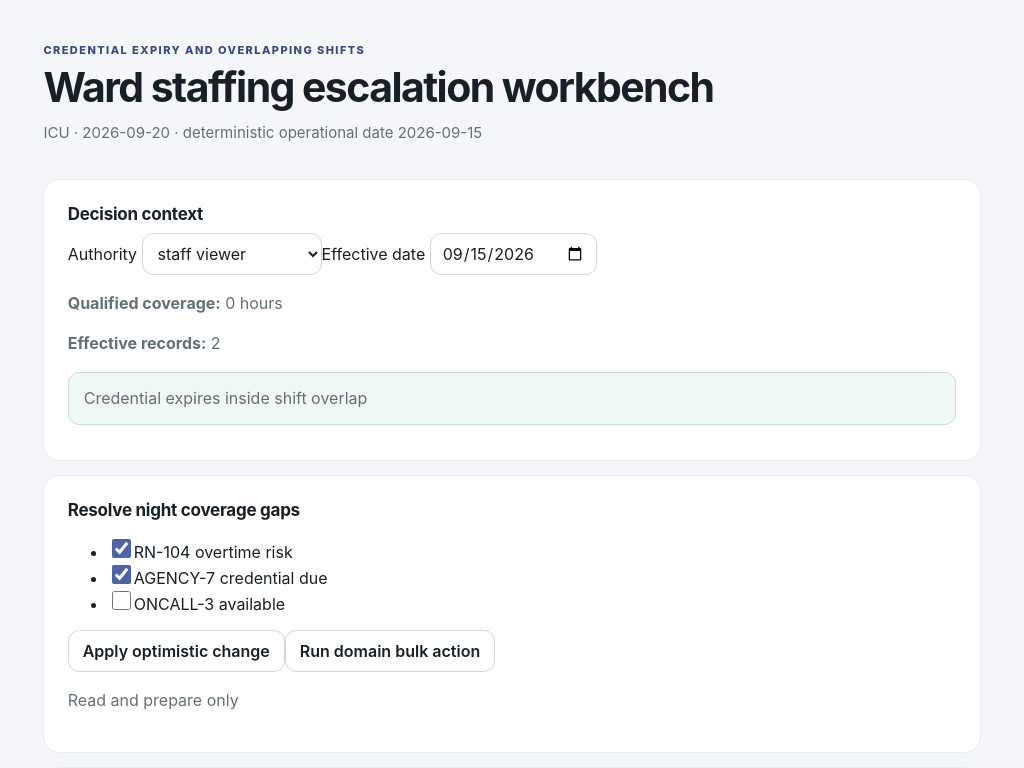
Ward staffing escalation workbench › shows permission behavior and partial recovery in the UI
Select "clinical lead" in the dropdown labelled "Authority" at (232, 254), box [142, 233, 322, 275]
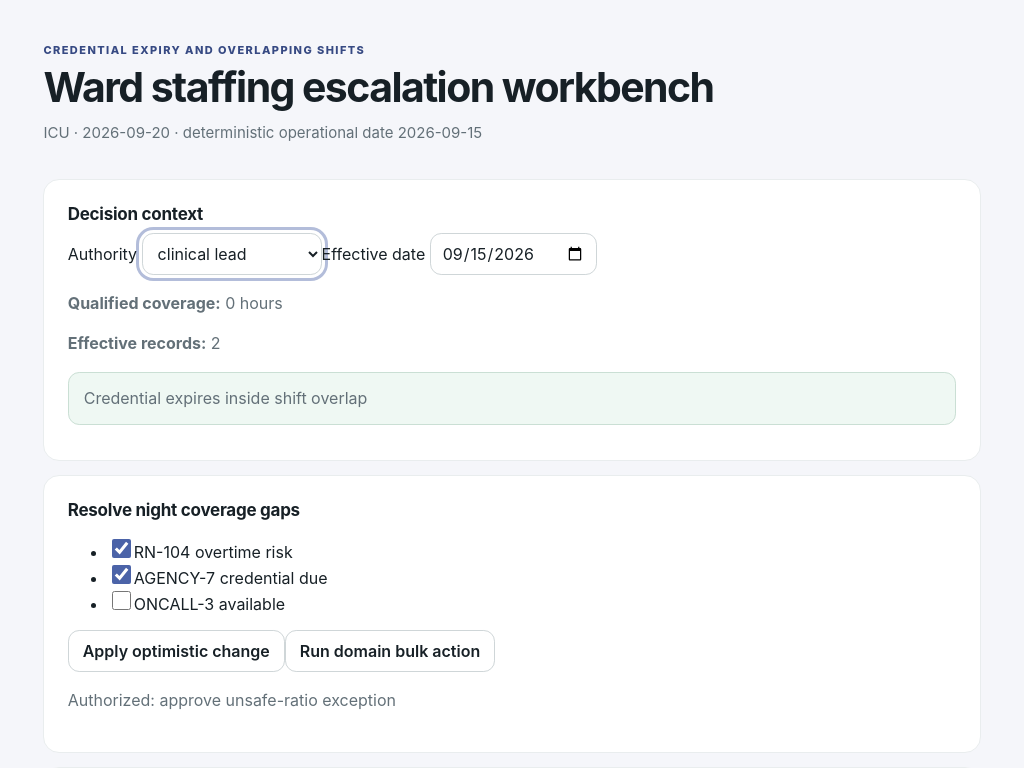
Click the button "Run domain bulk action" at (390, 651), box [285, 630, 495, 672]
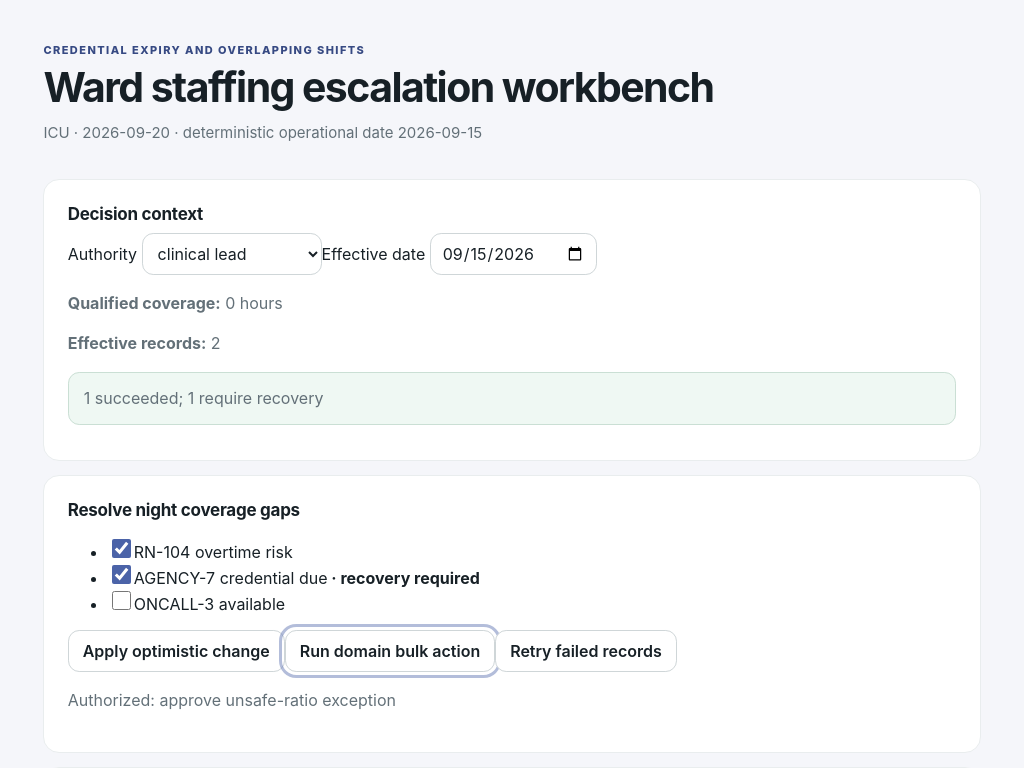
Result: the message reads "1 succeeded; 1 require recovery" at [84, 388, 323, 408]
Result: the text "· recovery required" is shown at [328, 568, 480, 588]
Result: the button "Retry failed records" is shown at [495, 630, 677, 672]
